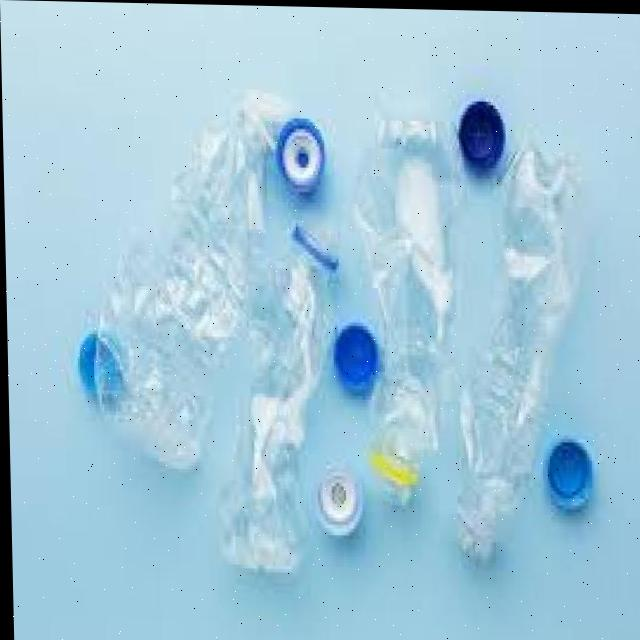bottle: (351, 98, 463, 513)
